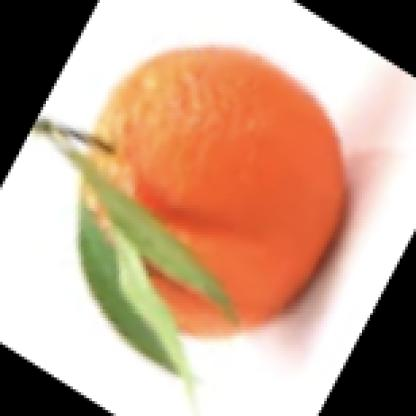fresh: (84, 47, 344, 334)
